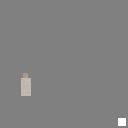supply_truck: (21, 78, 31, 96)
